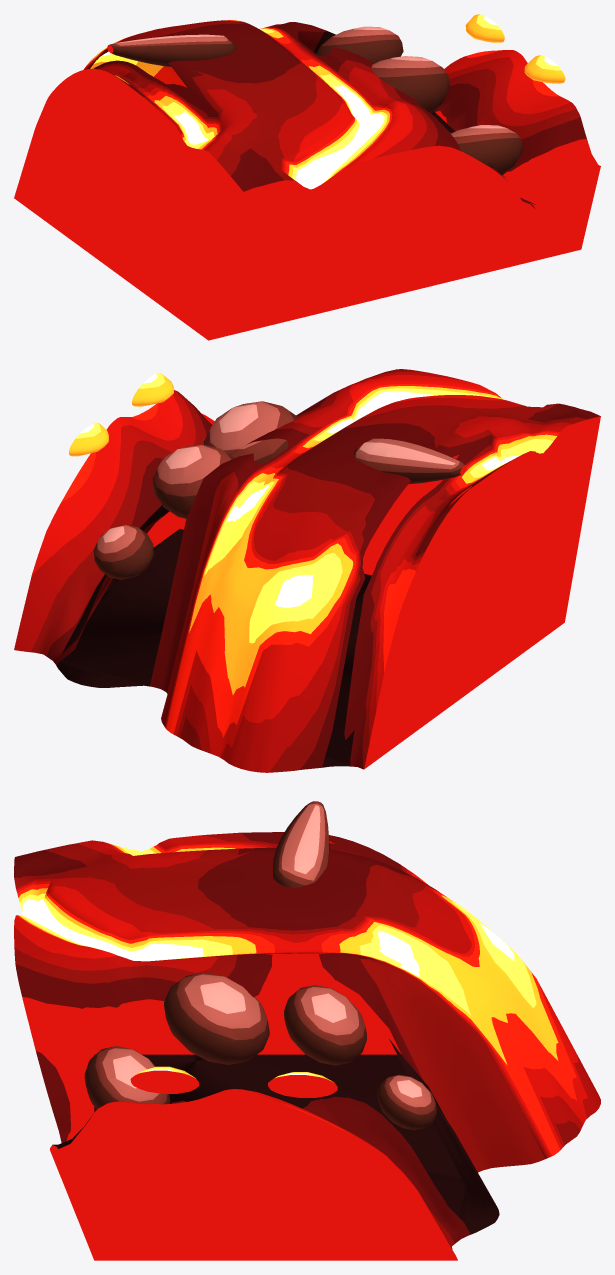
File: lava_grub_r_t3.glb
The picture shows the model from 3 angles, top to bottom: view 1: azimuth 30°, elevation 25°; view 2: azimuth 150°, elevation 25°; view 3: azimuth 270°, elevation 25°; orthographic projection. The views are drawn at different scales.
Visible parts, largest first — view 1: lava_grub_r_t3; view 2: lava_grub_r_t3; view 3: lava_grub_r_t3.
Boxes of the visible parts, x1=… form: lava_grub_r_t3: x1=14, y1=14, x2=600, y2=340; lava_grub_r_t3: x1=14, y1=369, x2=600, y2=772; lava_grub_r_t3: x1=14, y1=801, x2=600, y2=1260.
Size of the model in its own units: 24 by 13.77 by 28.88.
